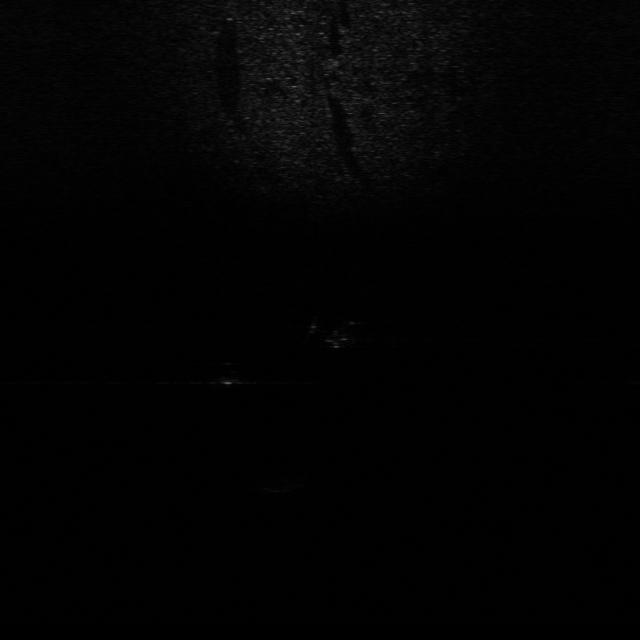ball: (218, 360, 250, 385)
circle cage: (256, 464, 313, 495)
human body: (306, 310, 370, 352)
